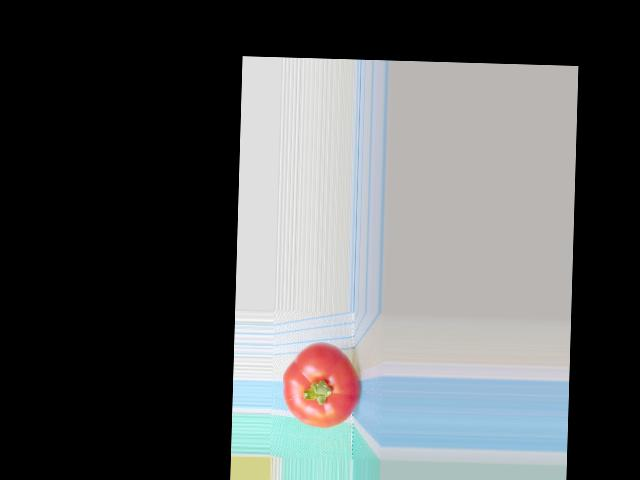tomato: (281, 342, 361, 429)
